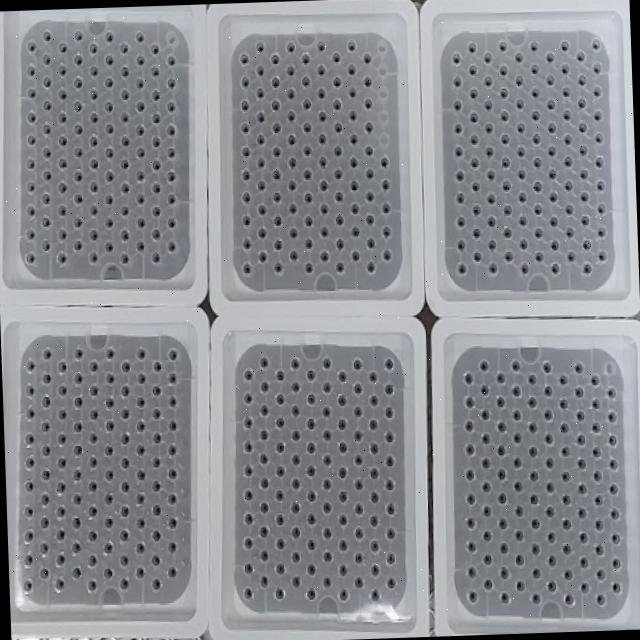pfs: (23, 579, 33, 594), (606, 386, 617, 399), (608, 457, 619, 470), (384, 357, 394, 371), (496, 419, 506, 433), (103, 75, 113, 88), (39, 191, 49, 204), (56, 250, 66, 263), (451, 51, 461, 64), (591, 61, 601, 74), (167, 347, 177, 360), (24, 456, 34, 469), (384, 430, 394, 443), (305, 464, 315, 477), (370, 589, 380, 602), (606, 409, 616, 422), (499, 566, 509, 579), (500, 591, 510, 604), (564, 592, 574, 605), (57, 63, 66, 77), (255, 38, 264, 52), (301, 51, 310, 65), (379, 154, 388, 168), (593, 107, 602, 121), (25, 358, 34, 372), (385, 502, 394, 516), (369, 539, 378, 553), (72, 122, 82, 134), (25, 251, 35, 263), (135, 169, 145, 181), (575, 50, 585, 62), (545, 97, 555, 109), (577, 121, 587, 133), (88, 359, 98, 371), (120, 360, 130, 372), (104, 420, 114, 432), (135, 468, 145, 480), (23, 505, 33, 517), (119, 505, 129, 517), (87, 529, 97, 541), (54, 578, 64, 590), (352, 358, 362, 370), (305, 393, 315, 405), (306, 441, 316, 453), (290, 502, 300, 514), (386, 552, 396, 564), (338, 588, 348, 600), (559, 422, 569, 434), (560, 445, 570, 457), (609, 483, 619, 495), (496, 492, 506, 504), (497, 518, 507, 530), (609, 508, 619, 520), (563, 569, 573, 581), (104, 29, 113, 42), (73, 51, 82, 64), (240, 98, 249, 111), (482, 50, 491, 63), (596, 178, 605, 191), (120, 456, 129, 469), (56, 481, 65, 494), (135, 566, 144, 579), (528, 445, 537, 458), (466, 566, 475, 579), (562, 518, 571, 531), (167, 168, 175, 182), (273, 237, 281, 251), (25, 40, 35, 51), (24, 157, 34, 168), (25, 205, 35, 216), (582, 263, 592, 274), (167, 372, 177, 383), (24, 408, 34, 419), (104, 397, 114, 408), (24, 433, 34, 444), (134, 444, 144, 455), (384, 384, 394, 395), (242, 417, 252, 428), (368, 515, 378, 526), (306, 588, 316, 599), (274, 589, 285, 599), (464, 396, 474, 407), (527, 397, 537, 408), (561, 470, 571, 481), (610, 533, 620, 544), (150, 42, 159, 54), (136, 54, 145, 66), (104, 53, 113, 65), (41, 75, 50, 87), (73, 76, 82, 88), (72, 99, 81, 111), (119, 89, 128, 101), (89, 158, 98, 170), (73, 145, 82, 157), (25, 180, 34, 192), (89, 181, 98, 193), (104, 146, 113, 158), (151, 180, 160, 192), (119, 229, 128, 241), (166, 239, 175, 251), (285, 40, 294, 52), (347, 40, 356, 52), (346, 63, 355, 75), (240, 75, 249, 87), (333, 121, 342, 133), (271, 120, 280, 132), (239, 121, 248, 133), (258, 251, 267, 263), (271, 168, 280, 180), (272, 191, 281, 203), (381, 202, 390, 214), (289, 250, 298, 262), (381, 225, 390, 237), (499, 64, 508, 76), (545, 51, 554, 63), (577, 96, 586, 108), (580, 213, 589, 225), (598, 249, 607, 261), (547, 145, 556, 157), (457, 262, 466, 274), (472, 227, 481, 239), (488, 261, 497, 273), (550, 239, 559, 251), (551, 262, 560, 274), (578, 190, 587, 202), (105, 347, 114, 359), (153, 360, 162, 372), (73, 373, 82, 385), (41, 420, 50, 432), (74, 396, 83, 408), (120, 432, 129, 444), (88, 432, 97, 444), (73, 444, 82, 456), (73, 469, 82, 481), (104, 469, 113, 481), (88, 480, 97, 492), (120, 528, 129, 540), (104, 540, 113, 552), (40, 567, 49, 579), (72, 566, 81, 578), (88, 579, 97, 591), (168, 541, 177, 553), (167, 566, 176, 578), (290, 357, 299, 369), (337, 370, 346, 382), (369, 394, 378, 406), (352, 381, 361, 393), (337, 418, 346, 430), (369, 442, 378, 454), (353, 429, 362, 441), (338, 441, 347, 453), (275, 465, 284, 477), (370, 491, 379, 503), (338, 466, 347, 478), (322, 478, 331, 490), (259, 477, 268, 489), (243, 489, 252, 501), (259, 502, 268, 514), (243, 537, 252, 549), (274, 513, 283, 525), (291, 527, 300, 539), (323, 501, 332, 513), (386, 527, 395, 539), (338, 514, 347, 526), (354, 576, 363, 588), (323, 551, 332, 563), (306, 563, 315, 575), (275, 562, 284, 574), (479, 359, 488, 371), (558, 374, 567, 386), (574, 362, 583, 374), (592, 398, 601, 410), (480, 408, 489, 420), (496, 444, 505, 456), (576, 410, 585, 422), (593, 470, 602, 482), (545, 457, 554, 469), (497, 469, 506, 481), (465, 468, 474, 480), (466, 493, 475, 505), (481, 481, 490, 493), (467, 541, 476, 553), (468, 590, 477, 602), (483, 578, 492, 590), (499, 541, 508, 553), (515, 554, 524, 566), (531, 517, 540, 529), (579, 532, 588, 544), (595, 518, 604, 530), (612, 582, 621, 594), (596, 594, 605, 606), (531, 593, 540, 605), (547, 581, 556, 593), (271, 97, 279, 110), (24, 530, 32, 543), (543, 360, 551, 373), (577, 433, 585, 446), (26, 87, 36, 97), (135, 217, 145, 227), (88, 409, 98, 419), (135, 420, 145, 430), (56, 458, 66, 468), (55, 529, 65, 539), (384, 479, 394, 489), (274, 490, 284, 500), (590, 423, 600, 433), (611, 559, 621, 569), (135, 31, 144, 42), (26, 111, 35, 122), (42, 168, 51, 179), (25, 228, 34, 239), (41, 239, 50, 250), (40, 216, 49, 227), (57, 204, 66, 215), (120, 205, 129, 216), (120, 253, 129, 264), (302, 98, 311, 109), (241, 191, 250, 202), (241, 237, 250, 248), (303, 215, 312, 226), (319, 180, 328, 191), (319, 226, 328, 237), (320, 250, 329, 261), (453, 76, 462, 87), (483, 75, 492, 86), (498, 40, 507, 51), (592, 86, 601, 97), (515, 145, 524, 156), (516, 168, 525, 179), (548, 192, 557, 203), (519, 262, 528, 273), (518, 214, 527, 225), (42, 348, 51, 359), (73, 347, 82, 358), (136, 348, 145, 359), (137, 373, 146, 384), (120, 385, 129, 396), (42, 373, 51, 384), (41, 396, 50, 407), (40, 493, 49, 504), (55, 506, 64, 517), (88, 505, 97, 516), (104, 516, 113, 527), (151, 504, 160, 515), (168, 517, 177, 528), (71, 542, 80, 553), (39, 543, 48, 554), (56, 554, 65, 565), (87, 554, 96, 565), (104, 567, 113, 578), (135, 543, 144, 554), (151, 554, 160, 565), (119, 578, 128, 589), (23, 555, 32, 566), (244, 369, 253, 380), (244, 392, 253, 403), (306, 418, 315, 429), (322, 406, 331, 417), (384, 407, 393, 418), (291, 430, 300, 441), (244, 465, 253, 476), (369, 467, 378, 478), (385, 455, 394, 466), (259, 550, 268, 561), (275, 538, 284, 549), (307, 514, 316, 525), (354, 527, 363, 538), (338, 539, 347, 550), (387, 577, 396, 588), (337, 564, 346, 575), (243, 587, 252, 598), (291, 550, 300, 561), (496, 372, 505, 383), (463, 373, 472, 384), (495, 395, 504, 406), (544, 385, 553, 396), (559, 398, 568, 409), (543, 409, 552, 420), (512, 409, 521, 420), (466, 444, 475, 455), (544, 433, 553, 444), (608, 434, 617, 445), (592, 446, 601, 457), (577, 483, 586, 494), (483, 506, 492, 517), (513, 481, 522, 492), (514, 505, 523, 516), (483, 554, 492, 565), (579, 582, 588, 593), (596, 568, 605, 579), (562, 543, 571, 554), (531, 544, 540, 555), (531, 567, 540, 578), (547, 555, 556, 566), (74, 28, 82, 40), (167, 54, 175, 66), (151, 65, 159, 77), (27, 64, 35, 76), (58, 88, 66, 100), (41, 146, 49, 158), (73, 168, 81, 180), (58, 228, 66, 240), (152, 136, 160, 148), (152, 159, 160, 171), (152, 251, 160, 263), (152, 205, 160, 217), (240, 52, 248, 64), (333, 75, 341, 87), (317, 87, 325, 99), (332, 98, 340, 110), (349, 132, 357, 144), (304, 261, 312, 273), (350, 248, 358, 260), (595, 155, 603, 167), (454, 145, 462, 157), (455, 170, 463, 182), (549, 214, 557, 226), (503, 226, 511, 238), (487, 238, 495, 250), (592, 38, 600, 50), (58, 360, 66, 372), (106, 372, 114, 384), (168, 419, 176, 431), (74, 421, 82, 433), (57, 433, 65, 445), (88, 455, 96, 467), (168, 444, 176, 456), (152, 456, 160, 468), (121, 480, 129, 492), (104, 492, 112, 504), (152, 578, 160, 590), (276, 369, 284, 381), (369, 371, 377, 383), (354, 454, 362, 466), (244, 512, 252, 524), (371, 564, 379, 576), (307, 538, 315, 550), (513, 432, 521, 444), (578, 507, 586, 519), (483, 530, 491, 542), (515, 529, 523, 541), (58, 42, 67, 52), (88, 42, 97, 52), (42, 54, 51, 64), (151, 90, 160, 100), (166, 101, 175, 111), (104, 123, 113, 133), (58, 157, 67, 167), (103, 171, 112, 181), (119, 158, 128, 168), (120, 183, 129, 193), (104, 217, 113, 227), (255, 65, 264, 75), (315, 64, 324, 74), (270, 76, 279, 86), (347, 86, 356, 96), (348, 109, 357, 119), (241, 169, 250, 179), (302, 169, 311, 179), (348, 155, 357, 165), (349, 180, 358, 190), (350, 202, 359, 212), (365, 214, 374, 224), (273, 262, 282, 272), (366, 237, 375, 247), (351, 226, 360, 236), (529, 40, 538, 50), (577, 75, 586, 85), (545, 74, 554, 84), (515, 98, 524, 108), (563, 156, 572, 166), (597, 226, 606, 236), (547, 168, 556, 178), (484, 146, 493, 156), (533, 182, 542, 192), (486, 194, 495, 204), (456, 193, 465, 203), (504, 251, 513, 261), (57, 385, 66, 395), (25, 385, 34, 395), (57, 408, 66, 418), (152, 408, 161, 418), (153, 433, 162, 443), (41, 470, 50, 480), (104, 445, 113, 455), (168, 469, 177, 479), (72, 494, 81, 504), (167, 494, 176, 504), (151, 530, 160, 540), (136, 518, 145, 528), (260, 381, 269, 391), (322, 383, 331, 393), (291, 382, 300, 392), (259, 405, 268, 415), (259, 429, 268, 439), (276, 417, 285, 427), (353, 406, 362, 416), (322, 455, 331, 465), (306, 490, 315, 500), (322, 528, 331, 538), (259, 575, 268, 585), (511, 386, 520, 396), (527, 374, 536, 384), (591, 375, 600, 385), (481, 458, 490, 468), (529, 471, 538, 481), (466, 518, 475, 528), (580, 557, 589, 567), (594, 545, 603, 555), (89, 89, 97, 100), (167, 124, 175, 135), (89, 135, 97, 146), (73, 192, 81, 203), (136, 193, 144, 204), (303, 121, 311, 132), (287, 110, 295, 121), (317, 132, 325, 143), (318, 156, 326, 167), (335, 214, 343, 225), (336, 237, 344, 248), (336, 262, 344, 273), (468, 41, 476, 52), (468, 64, 476, 75), (515, 51, 523, 62), (486, 169, 494, 180), (502, 180, 510, 191), (518, 191, 526, 202), (136, 396, 144, 407), (136, 491, 144, 502), (72, 517, 80, 528), (119, 555, 127, 566), (369, 419, 377, 430), (244, 440, 252, 451), (292, 575, 300, 586), (244, 562, 252, 573), (528, 422, 536, 433), (516, 580, 524, 591), (546, 505, 554, 516), (547, 532, 555, 543), (43, 29, 50, 41), (120, 41, 127, 53), (58, 111, 65, 123), (136, 123, 143, 135), (90, 229, 97, 241), (317, 39, 324, 51), (273, 145, 280, 157), (273, 214, 280, 226), (583, 238, 590, 250), (457, 216, 464, 228), (473, 250, 480, 262), (487, 215, 494, 227), (41, 516, 48, 528), (260, 452, 267, 464), (260, 525, 267, 537), (339, 491, 346, 503), (355, 551, 362, 563), (512, 359, 519, 371), (167, 193, 176, 202), (380, 179, 389, 188), (546, 122, 555, 131), (596, 203, 605, 212), (516, 122, 525, 131), (484, 100, 493, 109), (470, 181, 479, 190), (519, 239, 528, 248), (24, 481, 33, 490), (259, 357, 268, 366), (291, 455, 300, 464), (354, 504, 363, 513), (594, 495, 603, 504), (561, 495, 570, 504), (120, 66, 128, 76), (89, 65, 97, 75), (42, 98, 50, 108), (90, 112, 98, 122), (135, 77, 143, 87), (136, 100, 144, 110), (120, 111, 128, 121), (73, 239, 81, 249), (121, 135, 129, 145), (136, 146, 144, 156), (104, 194, 112, 204), (136, 240, 144, 250), (151, 228, 159, 238), (104, 100, 112, 110), (332, 52, 340, 62), (363, 53, 371, 63), (286, 65, 294, 75), (364, 122, 372, 132), (243, 263, 251, 273), (258, 228, 266, 238), (257, 157, 265, 167), (256, 134, 264, 144), (288, 158, 296, 168), (303, 192, 311, 202), (334, 191, 342, 201), (367, 262, 375, 272), (270, 53, 278, 63), (468, 87, 476, 97), (560, 41, 568, 51), (561, 64, 569, 74), (562, 87, 570, 97), (531, 88, 539, 98), (515, 75, 523, 85), (563, 110, 571, 120), (595, 132, 603, 142), (567, 252, 575, 262), (565, 204, 573, 214), (564, 181, 572, 191), (533, 157, 541, 167), (532, 133, 540, 143), (500, 111, 508, 121), (469, 112, 477, 122), (453, 99, 461, 109), (453, 124, 461, 134), (470, 135, 478, 145), (485, 123, 493, 133), (501, 134, 509, 144), (535, 251, 543, 261), (152, 385, 160, 395), (168, 396, 176, 406), (152, 481, 160, 491), (306, 370, 314, 380), (276, 442, 284, 452), (354, 479, 362, 489), (292, 479, 300, 489), (480, 385, 488, 395), (575, 387, 583, 397), (465, 420, 473, 430), (546, 482, 554, 492), (530, 494, 538, 504), (42, 122, 49, 133), (287, 87, 294, 98), (257, 111, 264, 122), (243, 214, 250, 225), (303, 145, 310, 156), (334, 168, 341, 179), (320, 203, 327, 214), (383, 248, 390, 259), (535, 227, 542, 238), (323, 358, 330, 369), (338, 394, 345, 405), (514, 457, 521, 468), (27, 135, 35, 144), (364, 77, 372, 86), (287, 135, 295, 144), (334, 144, 340, 156), (289, 229, 297, 238), (366, 168, 374, 177), (579, 169, 588, 177), (578, 146, 587, 154), (502, 157, 510, 166), (470, 158, 478, 167), (472, 204, 480, 213), (457, 239, 465, 248), (291, 405, 299, 414), (168, 78, 175, 88), (59, 136, 66, 146), (152, 113, 159, 123), (90, 206, 97, 216), (89, 252, 96, 262), (105, 242, 112, 252), (168, 218, 175, 228), (302, 75, 309, 85), (256, 88, 263, 98), (364, 99, 371, 109), (318, 110, 325, 120), (242, 146, 249, 156), (258, 180, 265, 190), (288, 179, 295, 189), (289, 204, 296, 214), (365, 145, 372, 155), (366, 191, 373, 201), (500, 87, 507, 97), (564, 135, 571, 145), (566, 227, 573, 237), (90, 386, 97, 396), (121, 408, 128, 418), (42, 445, 49, 455), (277, 394, 284, 404), (323, 430, 330, 440), (323, 577, 330, 587), (482, 433, 489, 443), (578, 458, 585, 468), (530, 65, 538, 73), (59, 182, 66, 191), (74, 216, 81, 225), (167, 147, 174, 156), (305, 238, 312, 247), (532, 111, 539, 120), (534, 204, 541, 213), (504, 205, 511, 214), (259, 205, 265, 215), (288, 157, 290, 159)
